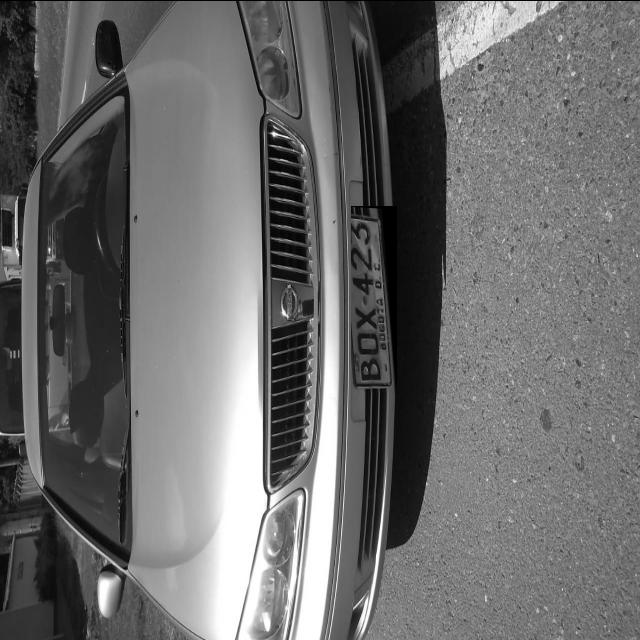plate: (351, 205, 397, 392)
